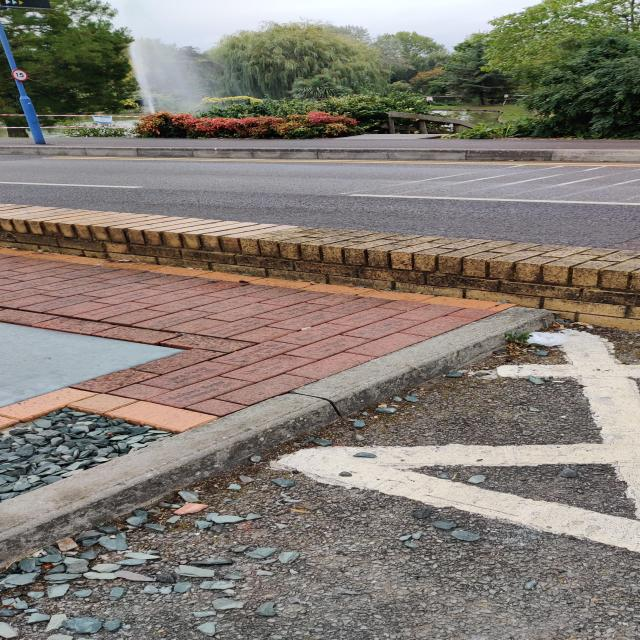litter: (527, 331, 572, 346)
